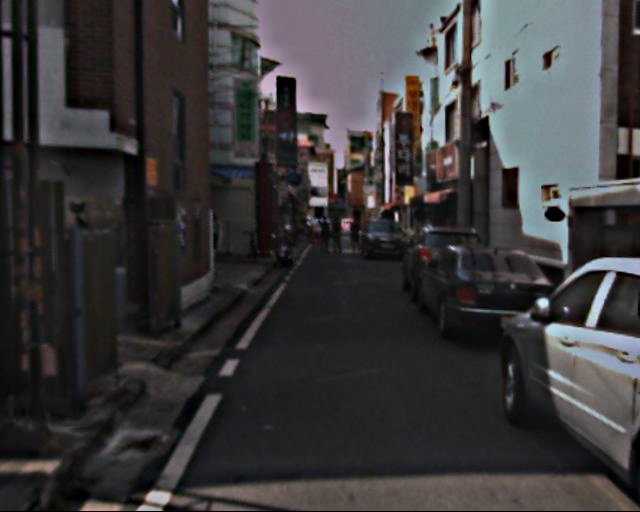person: (347, 217, 363, 255), (330, 217, 345, 254), (316, 217, 331, 253)
